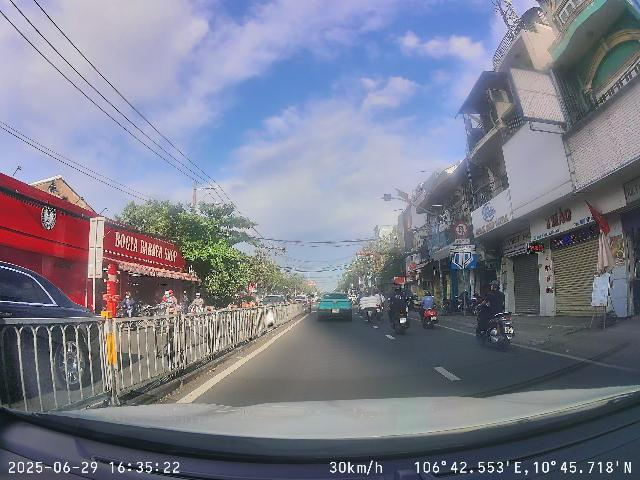124b-cam-oto-quay-dau-xe: (455, 221, 469, 238)
